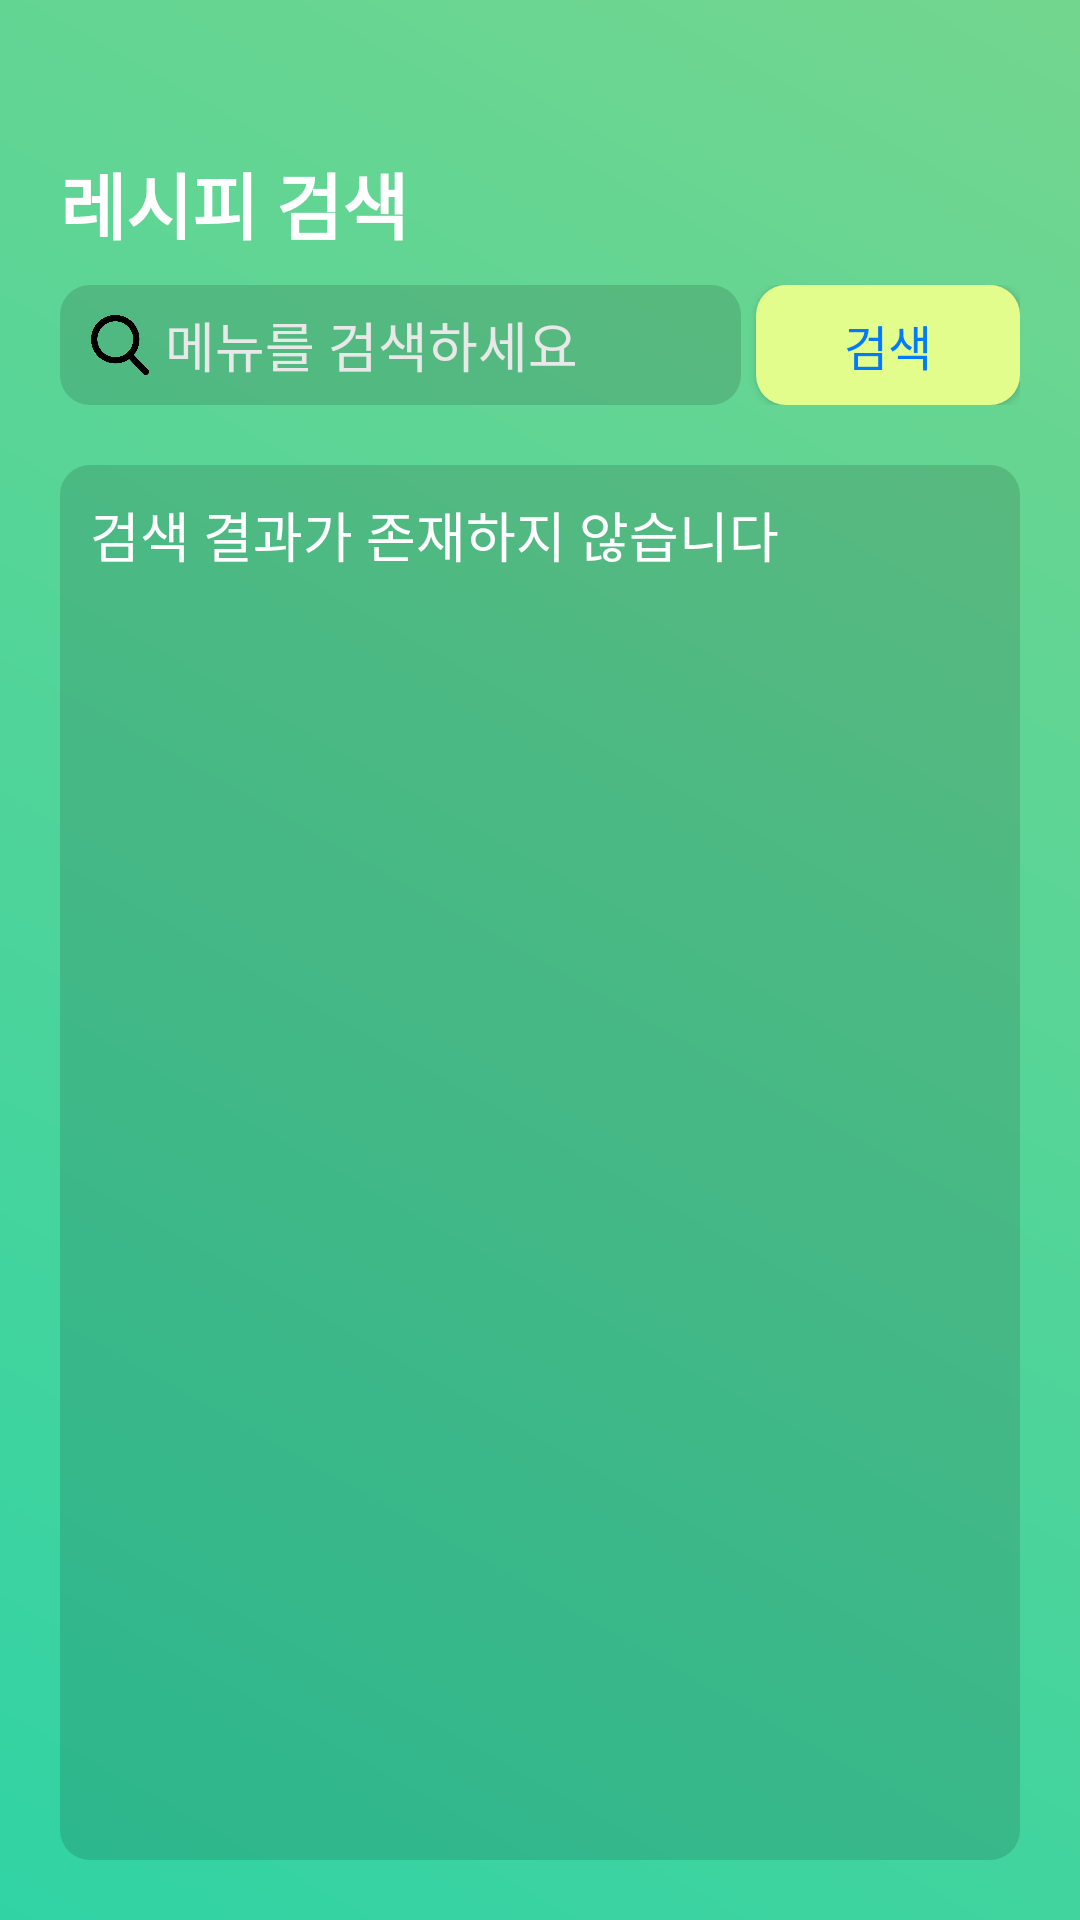

Icons on this 1080*1920 Android screen, each with its box as [left=x1, top=y1, right=x2, bottom=y2]:
search: [left=91, top=315, right=149, bottom=375]
